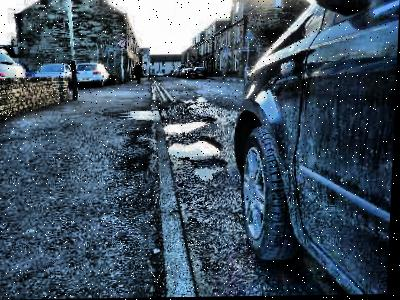pothole: (167, 136, 223, 159), (162, 114, 217, 137), (192, 159, 228, 182)
